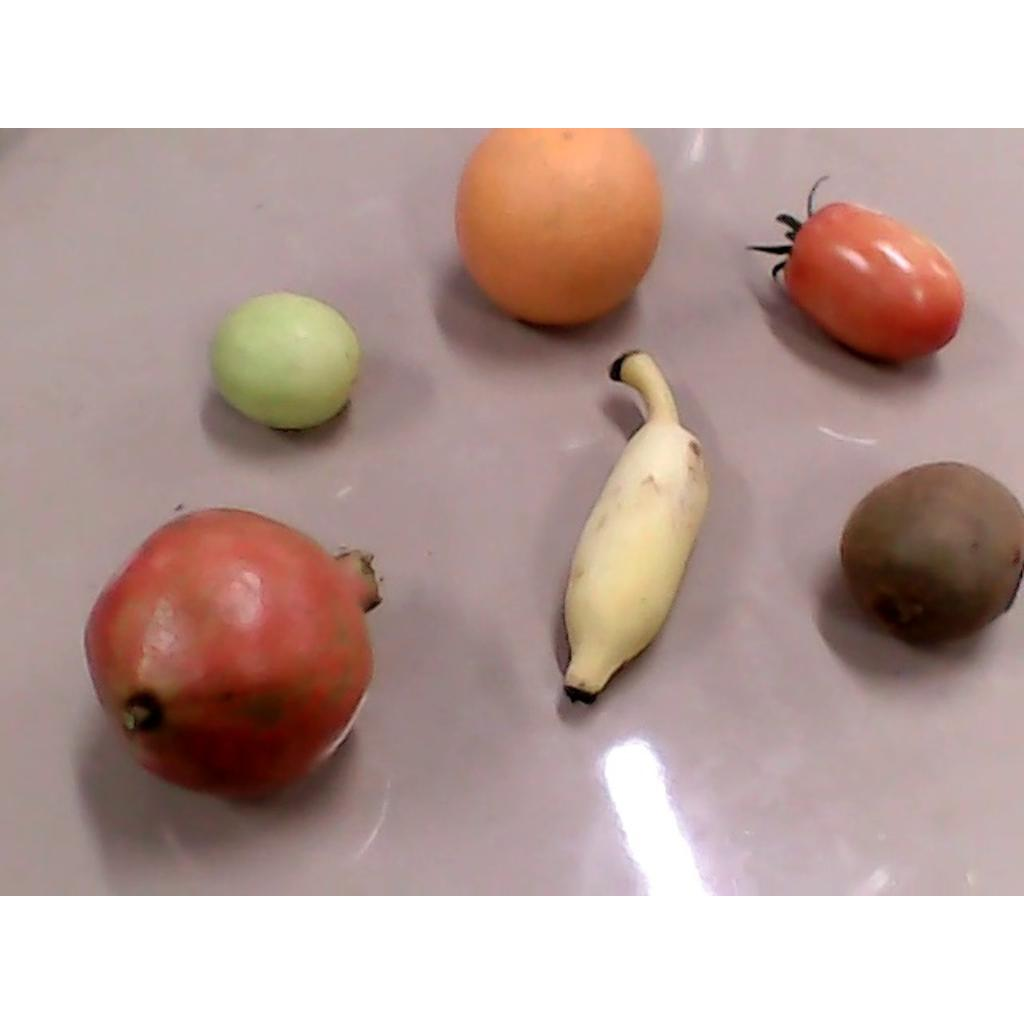kiwi: (839, 460, 1022, 645)
lemon: (209, 291, 358, 428)
orange: (457, 129, 663, 327)
pomegranate: (82, 510, 386, 797)
tomato: (748, 176, 963, 360)
